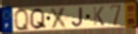7: (109, 4, 123, 27)
J: (71, 6, 84, 28)
K: (92, 6, 105, 27)
Q: (29, 7, 48, 31), (13, 7, 31, 32)
X: (49, 7, 70, 30)
